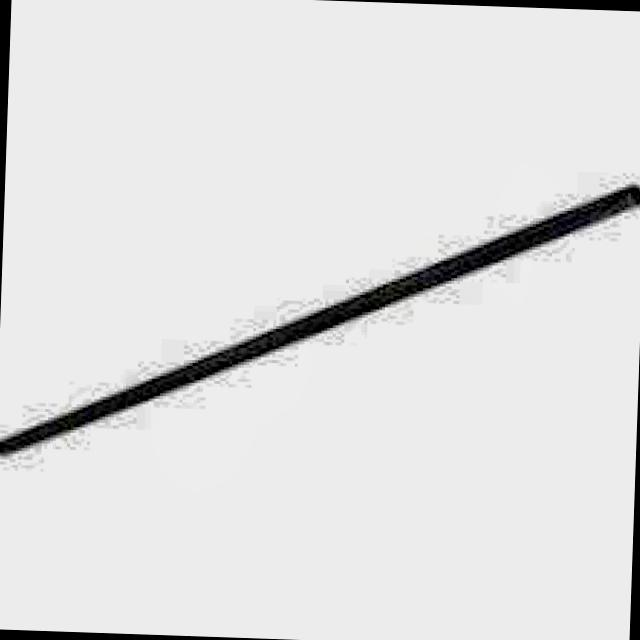plastic straw: (0, 186, 640, 451)
